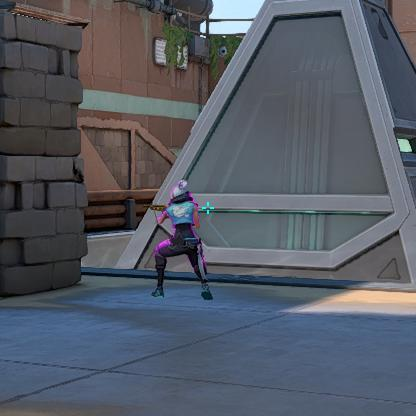enemyBody: (173, 204, 191, 229)
enemyHead: (173, 188, 184, 200)
